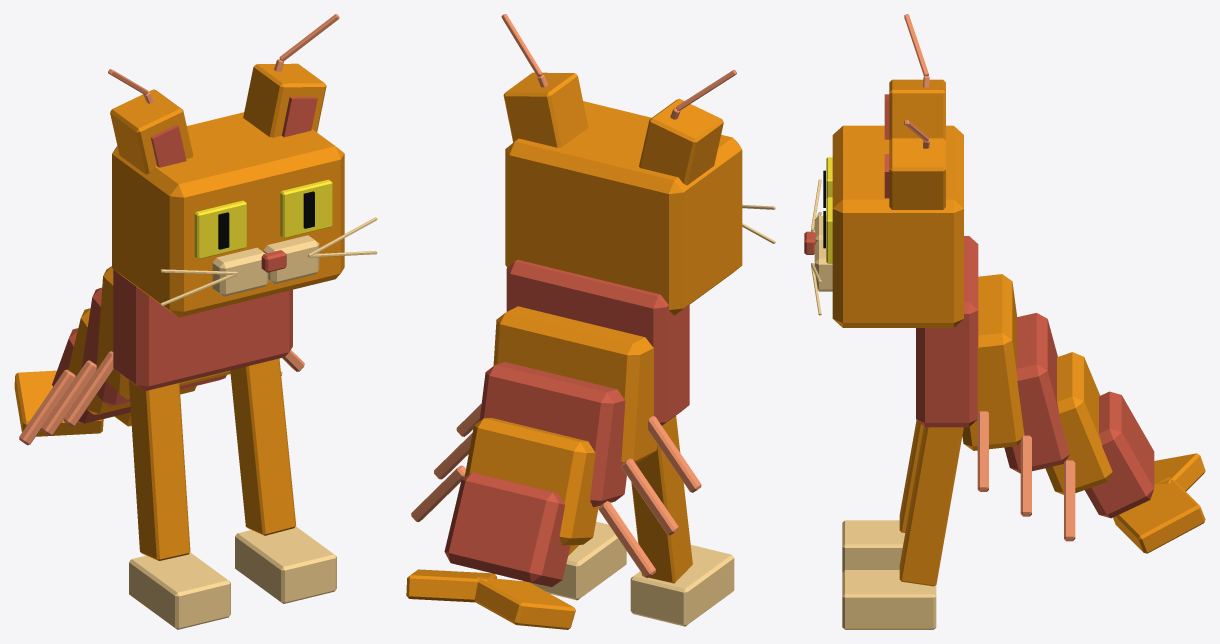
The model's file is TrippiTroppi.glb.
The picture shows the model from 3 angles, left to right: view 1: azimuth 30°, elevation 25°; view 2: azimuth 150°, elevation 25°; view 3: azimuth 270°, elevation 25°; orthographic projection. The views are drawn at different scales.
Parts seen in each view (by area): view 1: TrippiTroppi; view 2: TrippiTroppi; view 3: TrippiTroppi.
Boxes of the visible parts, <box> form: TrippiTroppi: <box>14,14,377,629</box>; TrippiTroppi: <box>406,14,775,629</box>; TrippiTroppi: <box>804,14,1205,629</box>.
Bounding box in the file's own units: 2.28 × 5 × 3.46.
Materials: 1 (1 with a texture image).
